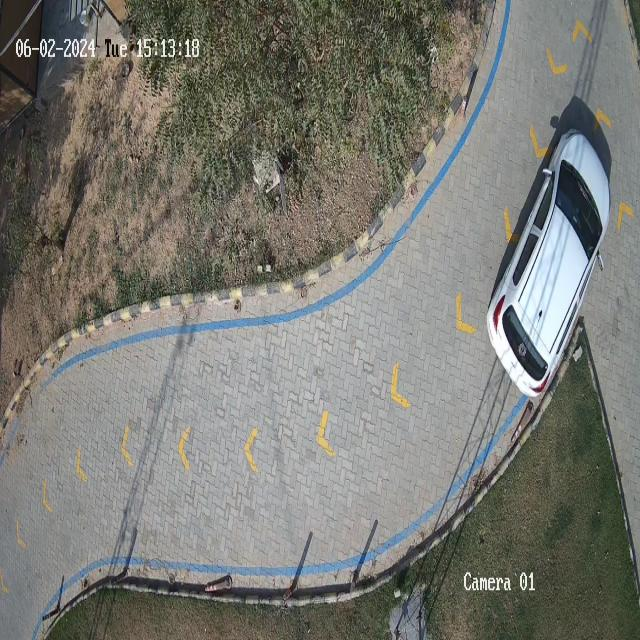car: (484, 128, 613, 404)
